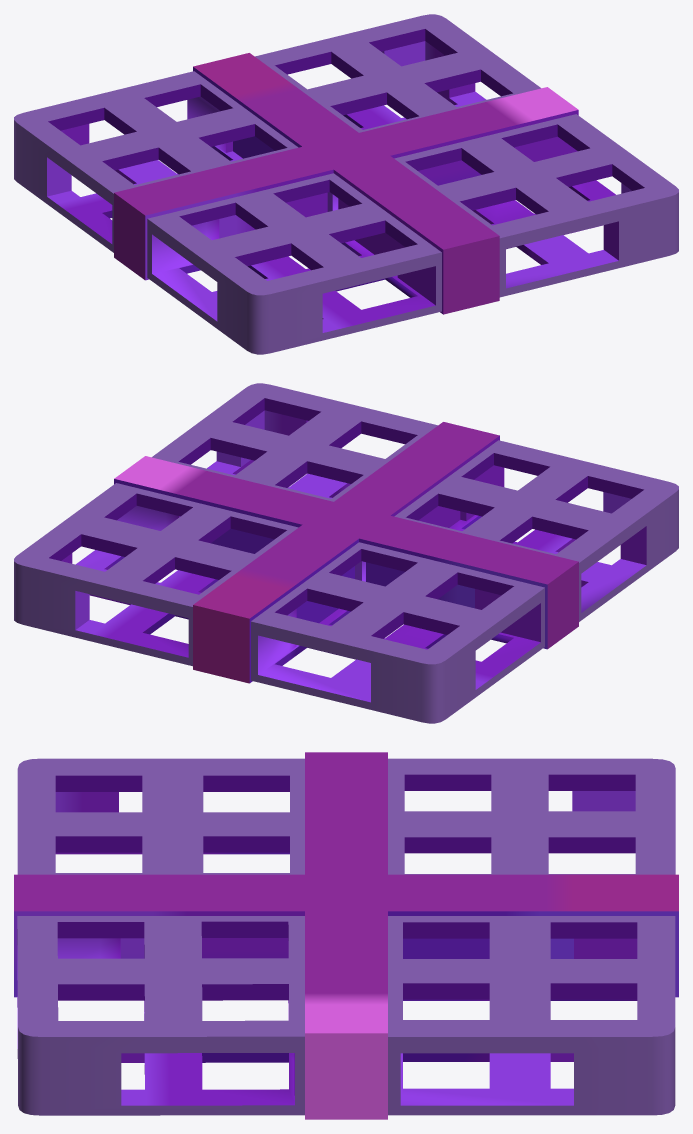
Rendered from Plastic_Pallet.fbx.
3 views of the same model, one above another, from view 1: azimuth 30°, elevation 25°; view 2: azimuth 150°, elevation 25°; view 3: azimuth 270°, elevation 25° (orthographic). The views are drawn at different scales.
Visible parts, largest first — view 1: Plastic_Pallet; view 2: Plastic_Pallet; view 3: Plastic_Pallet.
Part boxes in pixels (x1,y1,x2,y2): Plastic_Pallet: [14, 14, 678, 354]; Plastic_Pallet: [14, 383, 678, 723]; Plastic_Pallet: [14, 752, 678, 1119].
Bounding box in the file's own units: 115 × 16.44 × 115.
